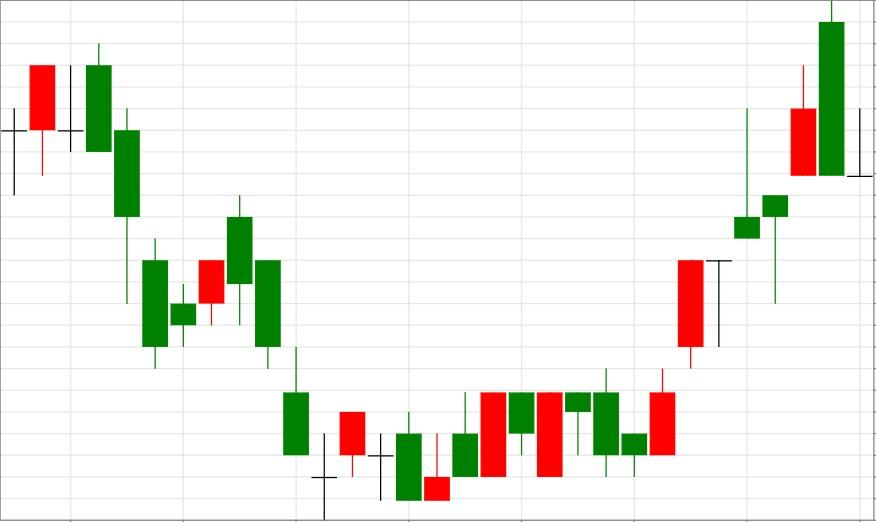inverse_hammer_rise: (338, 410, 451, 502)
